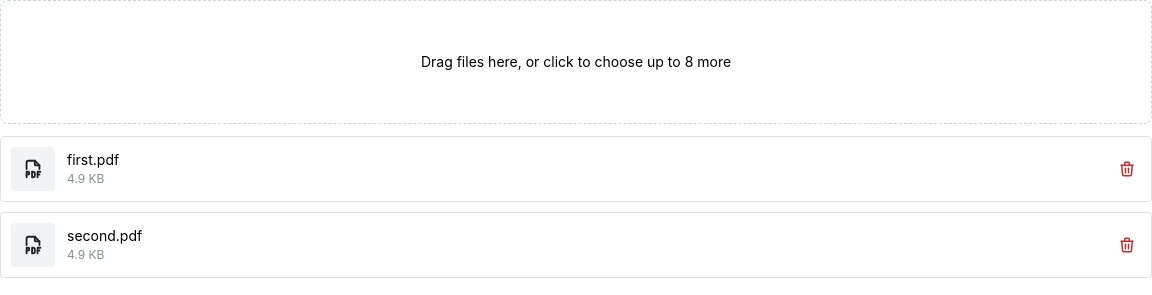
Test: DocumentsUploader › removes a stored document without touching staging
This screenshot has width=1152, height=295.
What coordinates should you click on to do the following:
click the button named "remove first.pdf"
I would click on:
 (1127, 169)
Its box is [1113,155,1141,183].
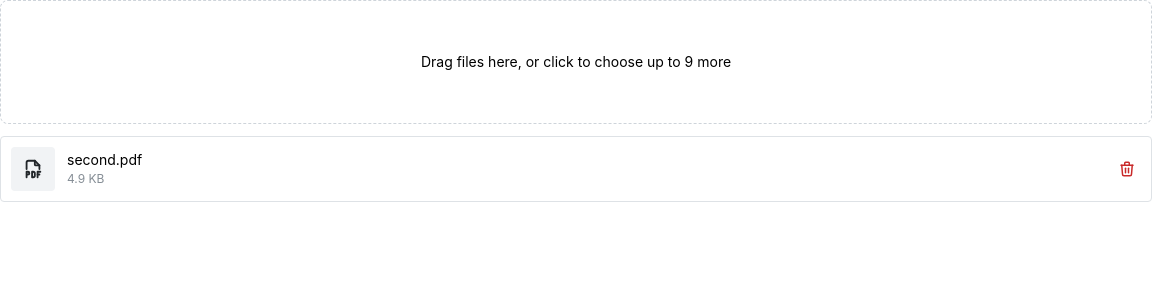
Expected: the text "second.pdf" is shown, [67,152,142,168]
Result: the link "first.pdf" is gone
